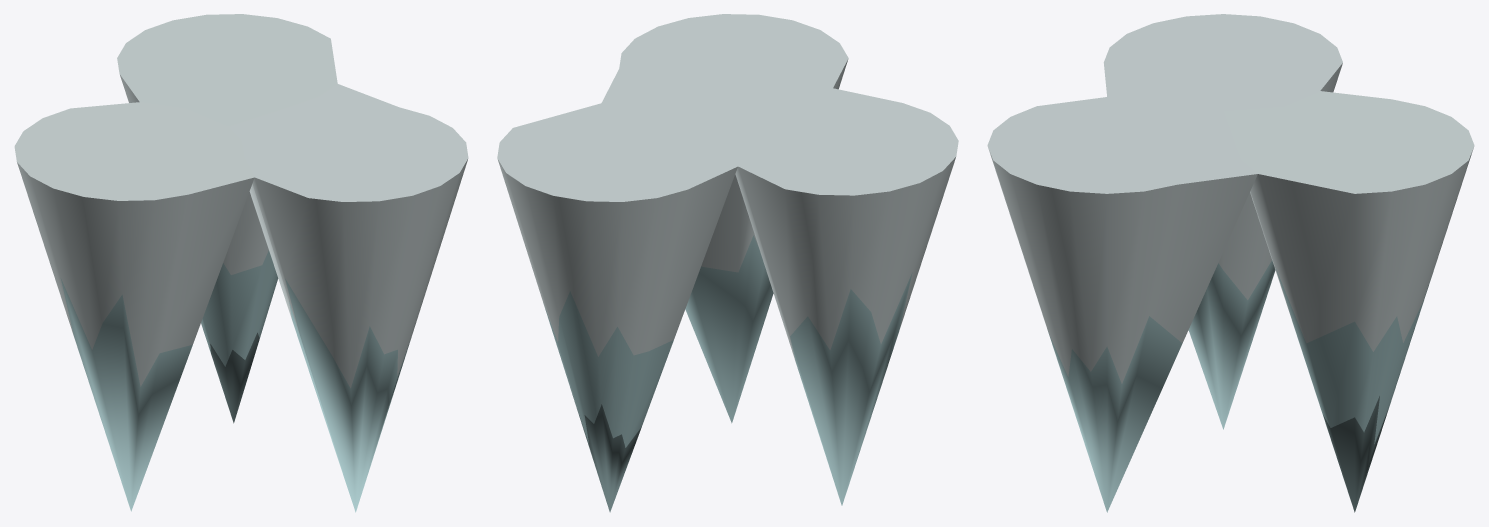
File: iCE sPIKE v2.fbx
3 renders of one model, left to right at view 1: azimuth 30°, elevation 25°; view 2: azimuth 150°, elevation 25°; view 3: azimuth 270°, elevation 25°, orthographic.
Visible parts, largest first — view 1: polySurface5; view 2: polySurface5; view 3: polySurface5.
Part boxes in pixels (x1,y1,x2,y2): polySurface5: (14,14,468,512); polySurface5: (497,14,958,512); polySurface5: (987,14,1474,512).
Bounding box in the file's own units: 8.62 × 8.15 × 9.8.
